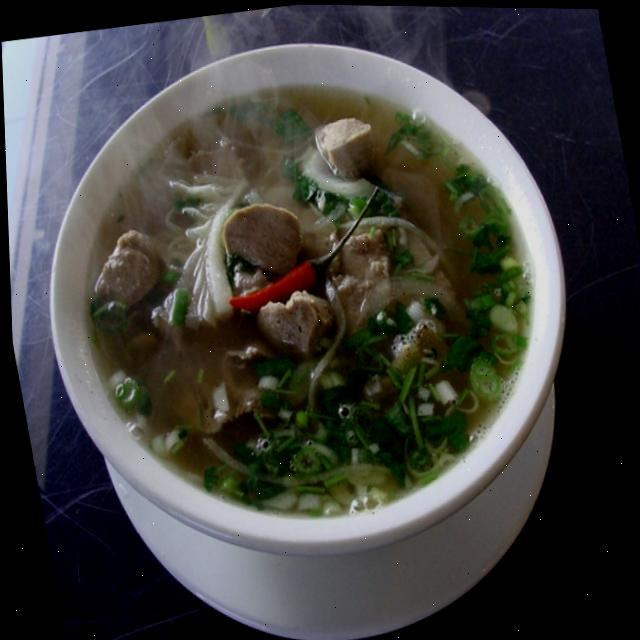面条主食: (24, 11, 594, 581)
